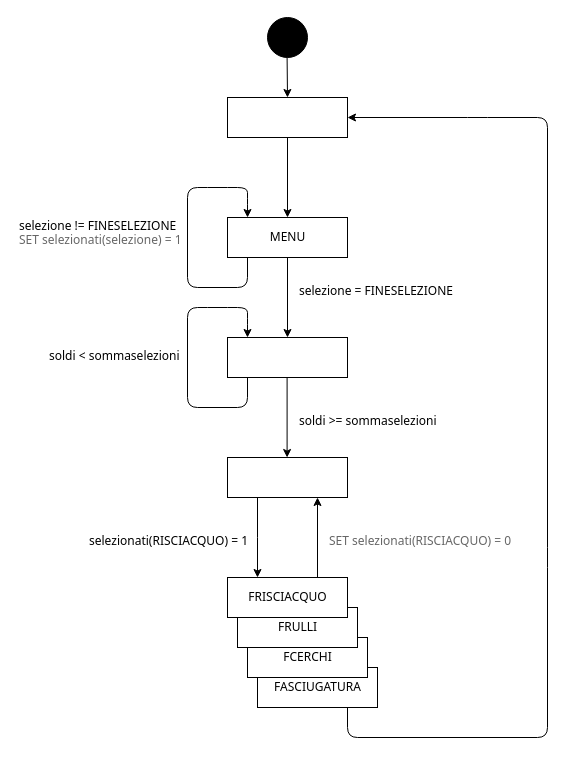
The diagram is 573 pixels wide and 763 high, and some of its shapes have lost their labels. The centre of each missing label's shape, as x and y in pixels:
"LAVORAZIONE" belongs at pixel 287 477.
"PAGAMENTO" belongs at pixel 287 357.
"START" belongs at pixel 287 117.
